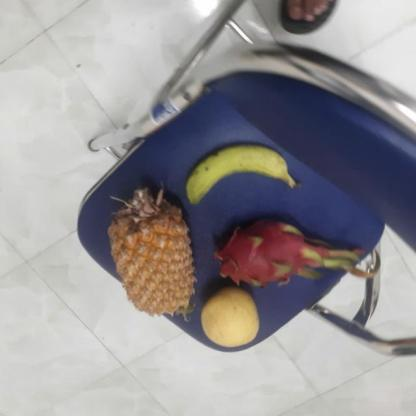banana: (188, 145, 292, 209)
pear: (200, 287, 262, 347)
pineapple: (111, 186, 199, 316)
pitaya: (219, 218, 329, 288)
